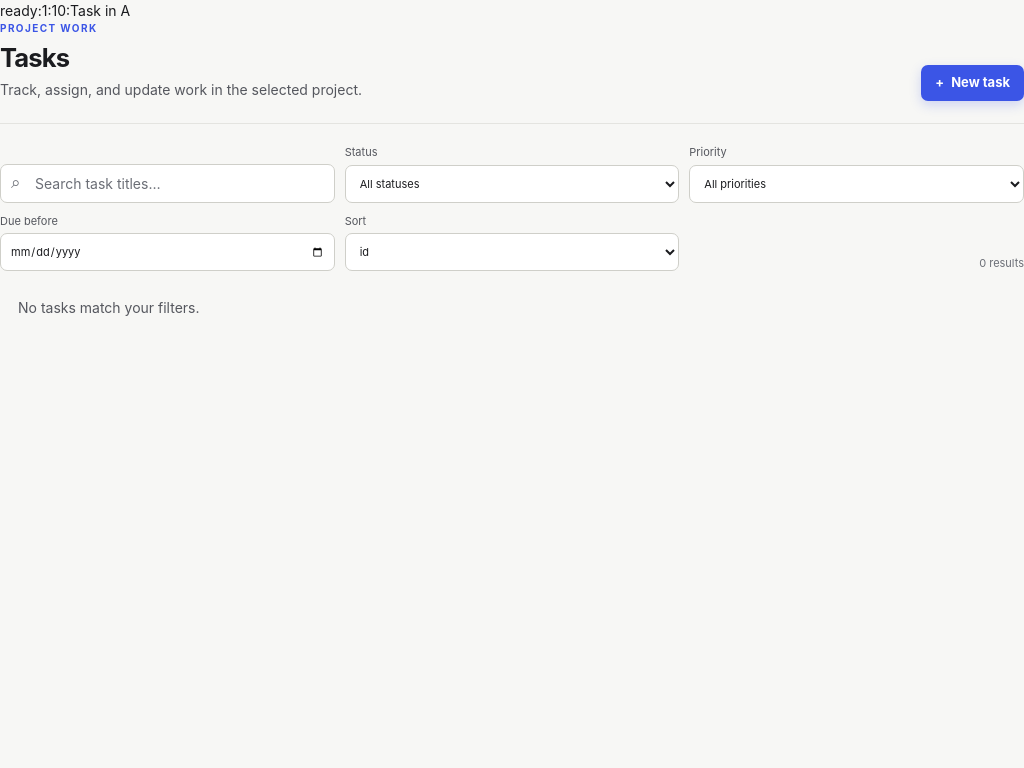
Test: adversarial product lifecycle › closes a committed create form when only the follow-up refresh fails
Click the button "+ New task" at (973, 83), box [921,65,1023,101]
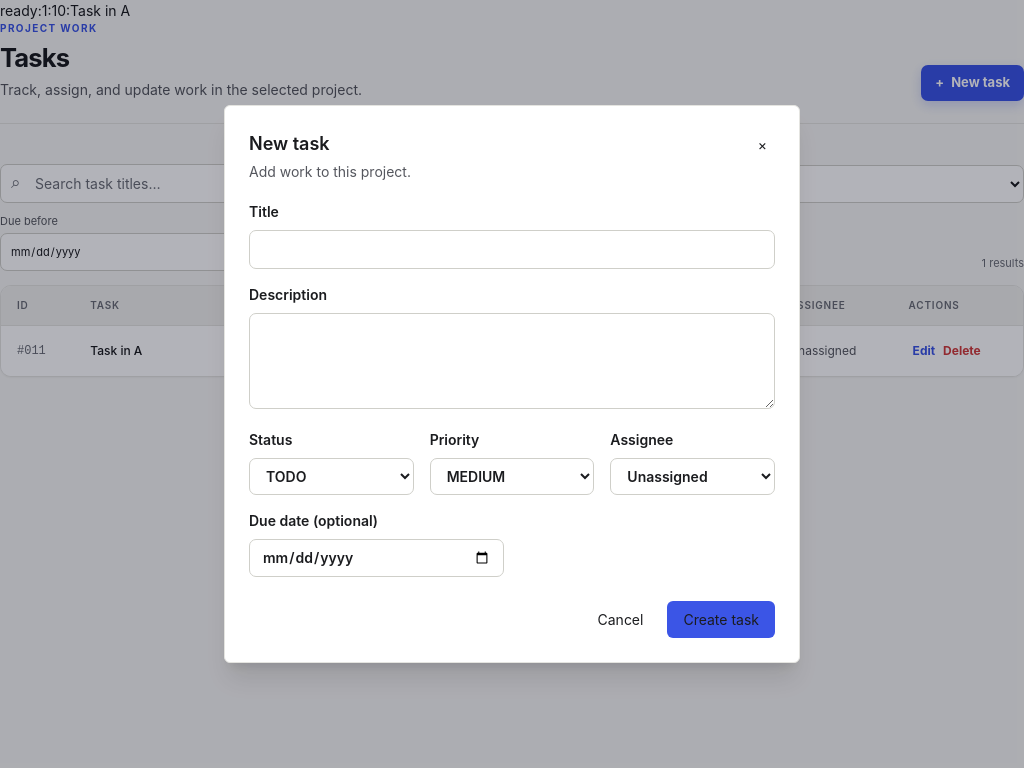
Type "Created once" into the field labelled "Title" at (512, 250), box [249,230,775,269]
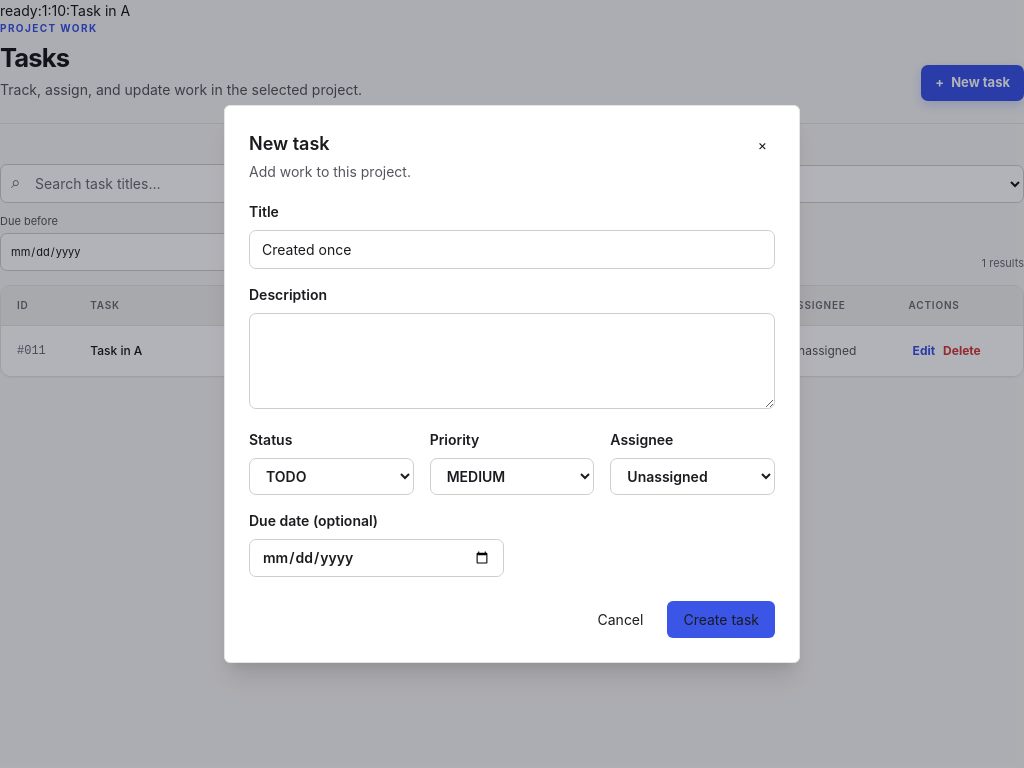
Click the button "Create task" at (721, 620), box [667,601,775,638]
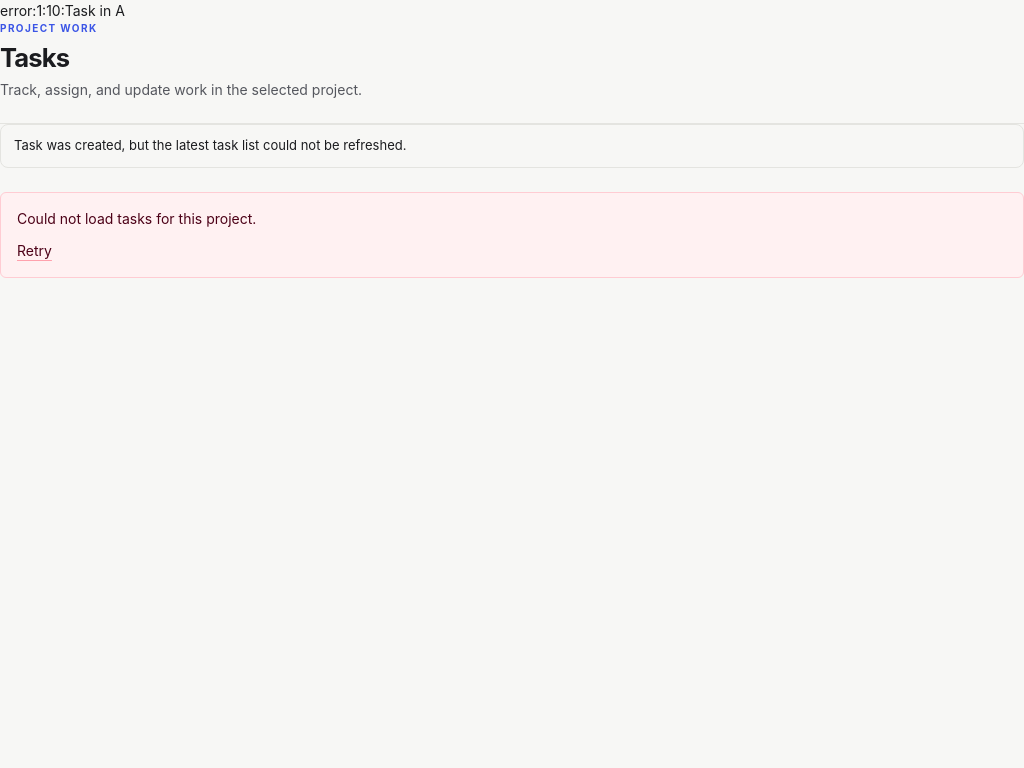
Expected: the text "Task was created, but the latest task list could not be refreshed." is shown, [0,124,1023,168]
Expected: the button "New task" is gone
